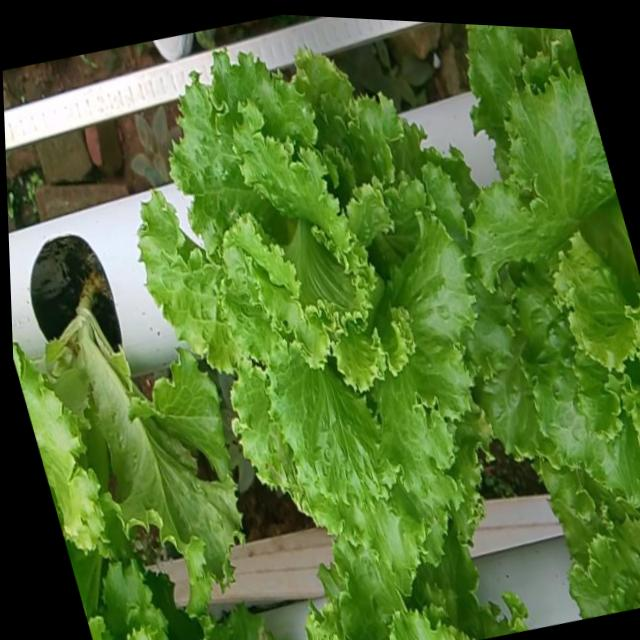Mature: (126, 50, 483, 574), (459, 56, 640, 505)
